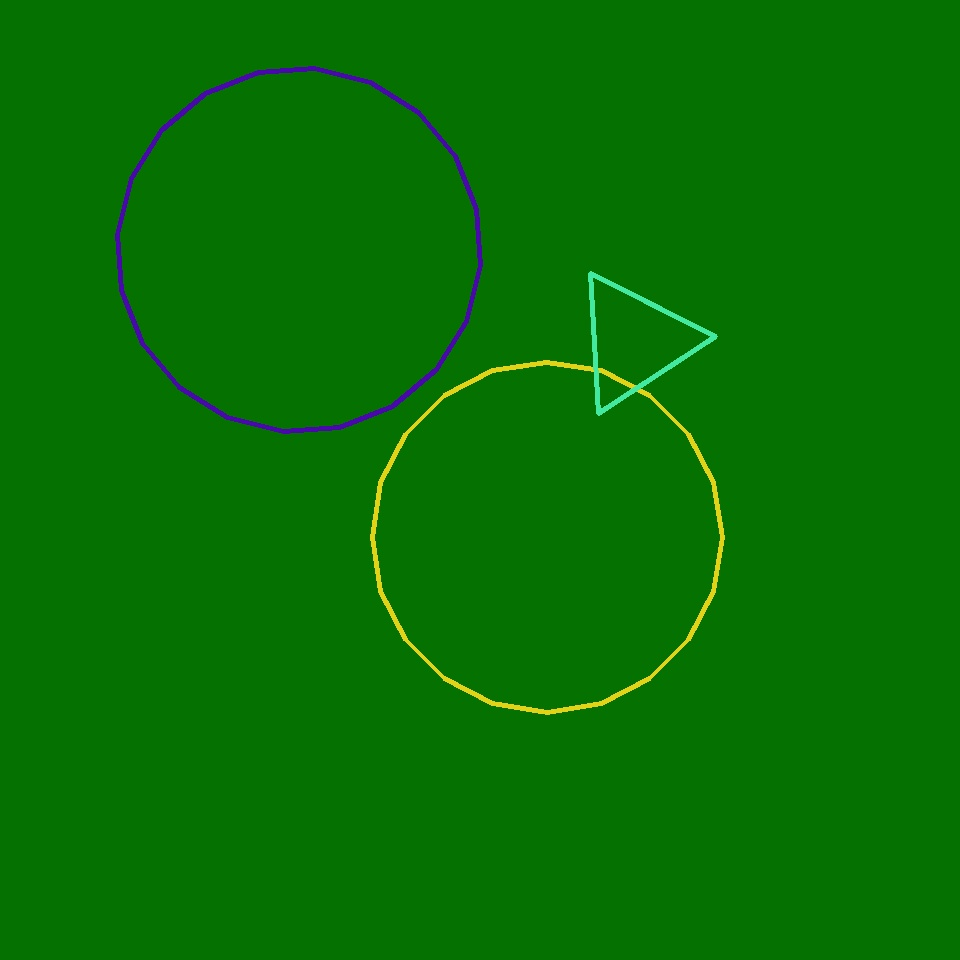circle: (573, 271, 698, 411)
triangle: (118, 69, 480, 432), (372, 362, 722, 712)
